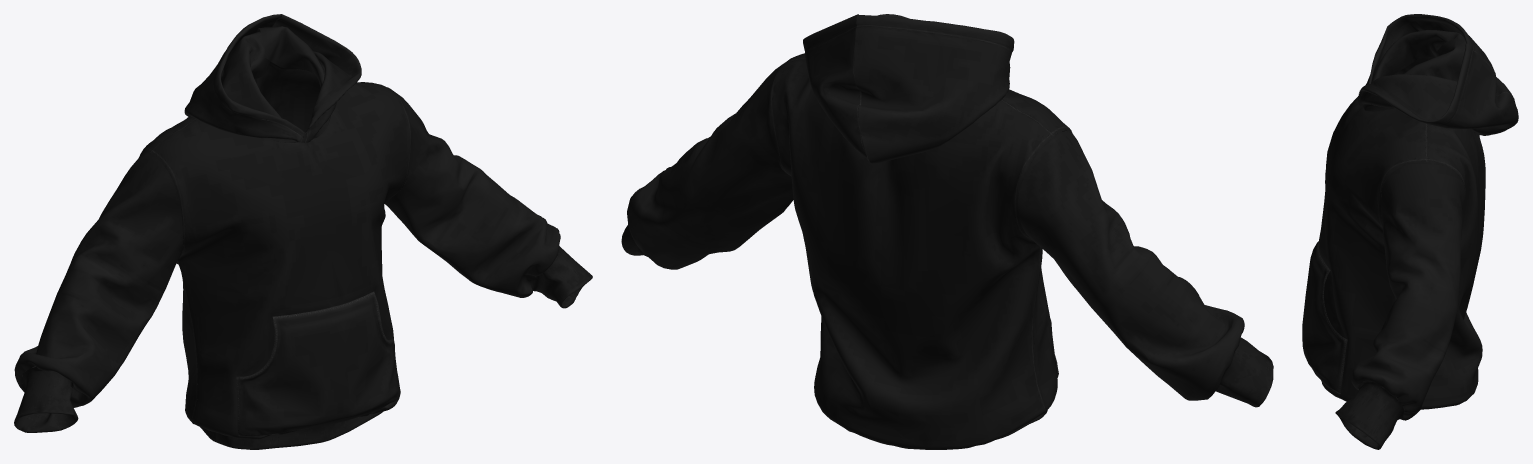
Rendered from hoodie.glb.
3 renders of one model, left to right at view 1: azimuth 30°, elevation 25°; view 2: azimuth 150°, elevation 25°; view 3: azimuth 270°, elevation 25°, orthographic. The views are drawn at different scales.
Visible parts, largest first — view 1: Hoodie_Part2_Hoodie_Part2_0, Hoodie_Part1_Hoodie_Part1_0; view 2: Hoodie_Part1_Hoodie_Part1_0, Hoodie_Part2_Hoodie_Part2_0; view 3: Hoodie_Part2_Hoodie_Part2_0, Hoodie_Part1_Hoodie_Part1_0.
Part boxes in pixels (left/top/right/bottom): Hoodie_Part2_Hoodie_Part2_0: left=14, top=14, right=592, bottom=436; Hoodie_Part1_Hoodie_Part1_0: left=141, top=62, right=411, bottom=449; Hoodie_Part1_Hoodie_Part1_0: left=769, top=53, right=1072, bottom=449; Hoodie_Part2_Hoodie_Part2_0: left=621, top=14, right=1273, bottom=407; Hoodie_Part2_Hoodie_Part2_0: left=1302, top=14, right=1518, bottom=449; Hoodie_Part1_Hoodie_Part1_0: left=1318, top=95, right=1485, bottom=409.
Bounding box in the file's own units: 4.34 × 2.7 × 1.5.
Materials: 2 (2 with a texture image).
